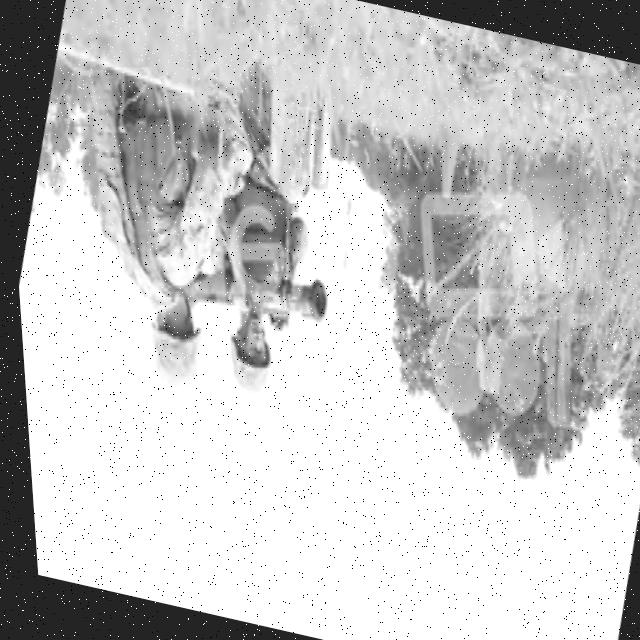rocket: (183, 244, 336, 348)
